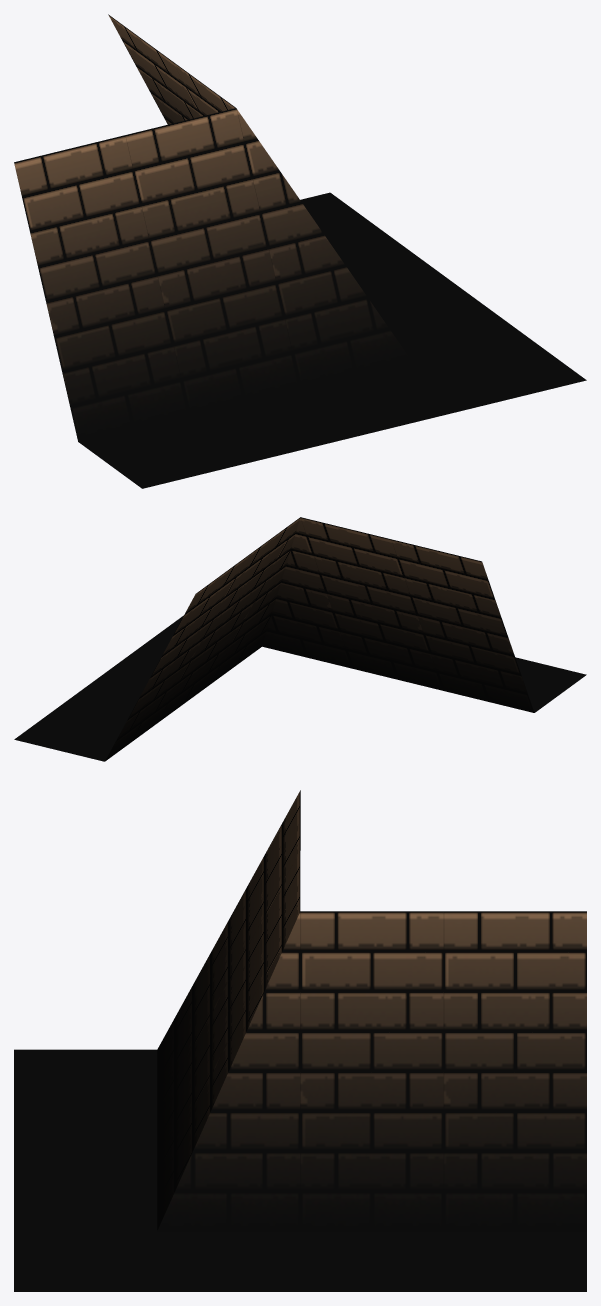
The model's file is wallBottom_cornerOut.FBX.
3 views of the same model, one above another, from view 1: azimuth 30°, elevation 25°; view 2: azimuth 150°, elevation 25°; view 3: azimuth 270°, elevation 25° (orthographic). The views are drawn at different scales.
Parts seen in each view (by area): view 1: wallBottom_cornerOut; view 2: wallBottom_cornerOut; view 3: wallBottom_cornerOut.
Boxes of the visible parts, x1,y1,x2,y2 form: wallBottom_cornerOut: [14, 14, 586, 488]; wallBottom_cornerOut: [14, 517, 586, 761]; wallBottom_cornerOut: [14, 790, 586, 1291].
Size of the model in its own units: 8 by 4 by 8.
Materials: 1 (1 with a texture image).
